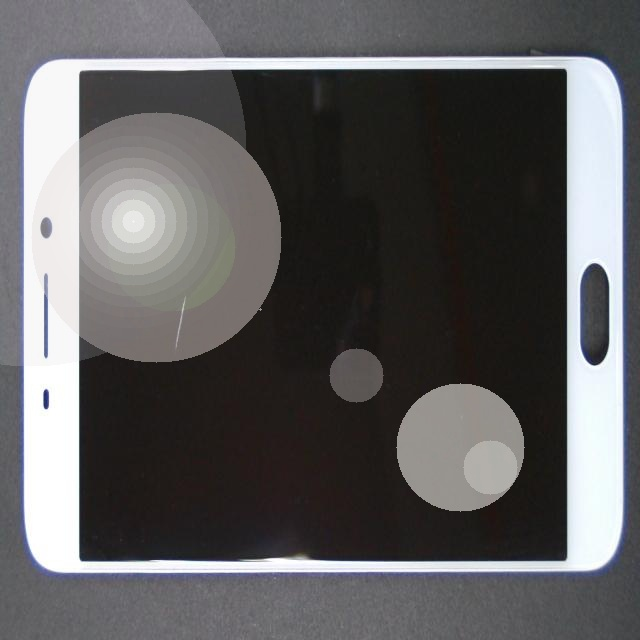scratch: (102, 96, 263, 449)
